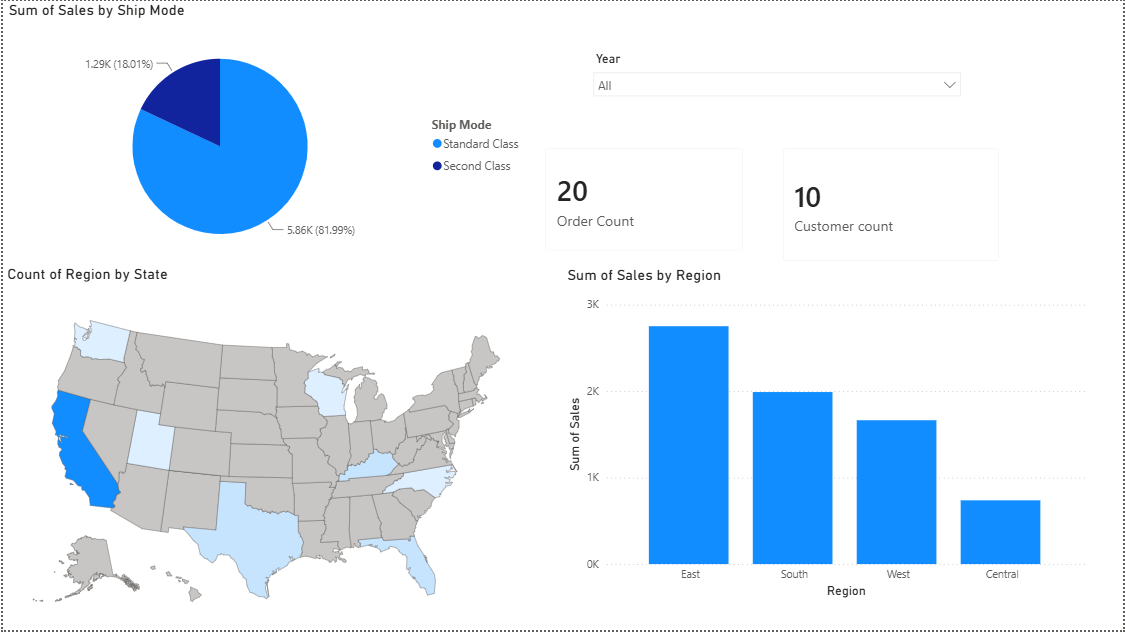

Layout of this report page (visuals, bound fields, positions):
{"tool":"powerbi","page":{"name":"Page 1","canvas":[1280,720],"ordinal":0},"visuals":[{"type":"shapeMap","fields":{"Value":["CountNonNull(store_detail_dataset.Region)"],"Category":["store_detail_dataset.State"]},"box":[0,301.9,602.4,418.5],"z":0},{"type":"pieChart","fields":{"Category":["Ship Mode.Ship Mode"],"Y":["Sum(store_detail_dataset.Sales)"]},"box":[1.2,0,601.6,302],"z":1000},{"type":"columnChart","fields":{"Category":["store_detail_dataset.Region"],"Y":["Sum(store_detail_dataset.Sales)"]},"box":[640,302.2,602.2,384.4],"z":2000},{"type":"cardVisual","fields":{"Data":["store_detail_dataset.Order Count"]},"box":[602.5,151.2,260,151.2],"z":2001},{"type":"cardVisual","fields":{"Data":["store_detail_dataset.Customer count"]},"box":[873.8,151.2,281.2,163.8],"z":2002},{"type":"slicer","fields":{"Values":["store_detail_dataset.Order Date.Variation.Date Hierarchy.Year"]},"box":[665,52.5,440,86.2],"z":2003}]}

Visuals, with their boxes in screenshot pixels (x1, y1, x2, y2), scaled from the page's 1280x720 canvas onto the 1125x632 screenshot:
shapeMap - CountNonNull(store_detail_dataset.Region) x store_detail_dataset.State: locate(0, 265, 529, 631)
pieChart - Ship Mode.Ship Mode x Sum(store_detail_dataset.Sales): locate(1, 0, 530, 265)
columnChart - store_detail_dataset.Region x Sum(store_detail_dataset.Sales): locate(562, 265, 1092, 603)
cardVisual - store_detail_dataset.Order Count: locate(530, 133, 758, 265)
cardVisual - store_detail_dataset.Customer count: locate(768, 133, 1015, 276)
slicer - store_detail_dataset.Order Date.Variation.Date Hierarchy.Year: locate(584, 46, 971, 122)
